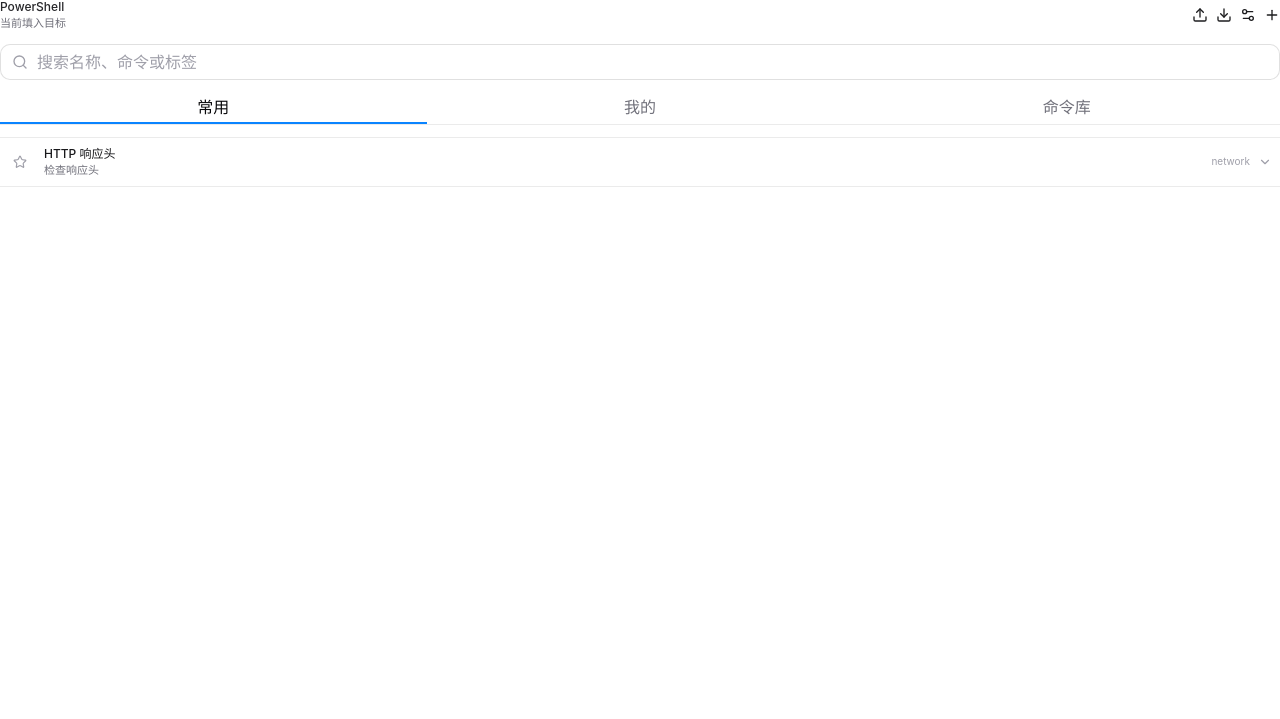
SnippetToolContentV2 › confirms change commands and keeps successful submission independent from usage storage
Click the text "HTTP 响应头" at (80, 153), box [44,146,116,160]
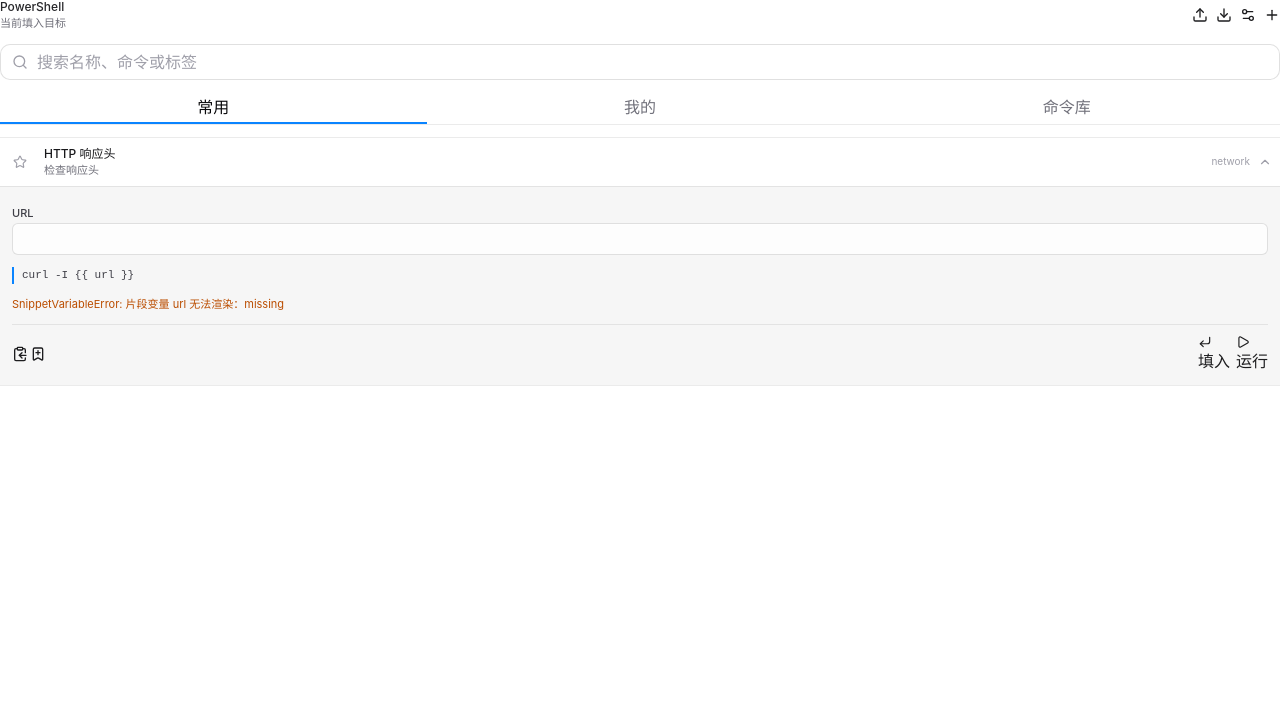
Type "https://example.com" into the field labelled "URL" at (640, 239), box [12,223,1268,255]
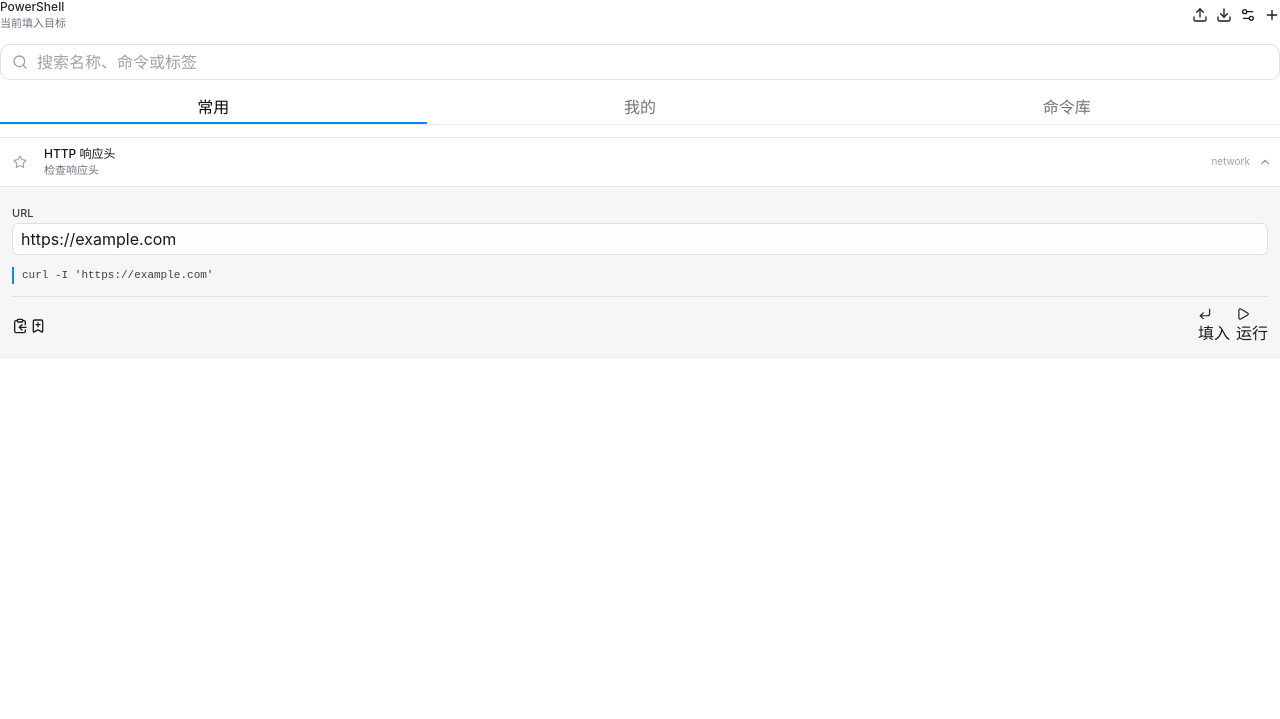
Click the button "运行" at (1252, 326), box [1236,306,1268,344]
(page scrolled)
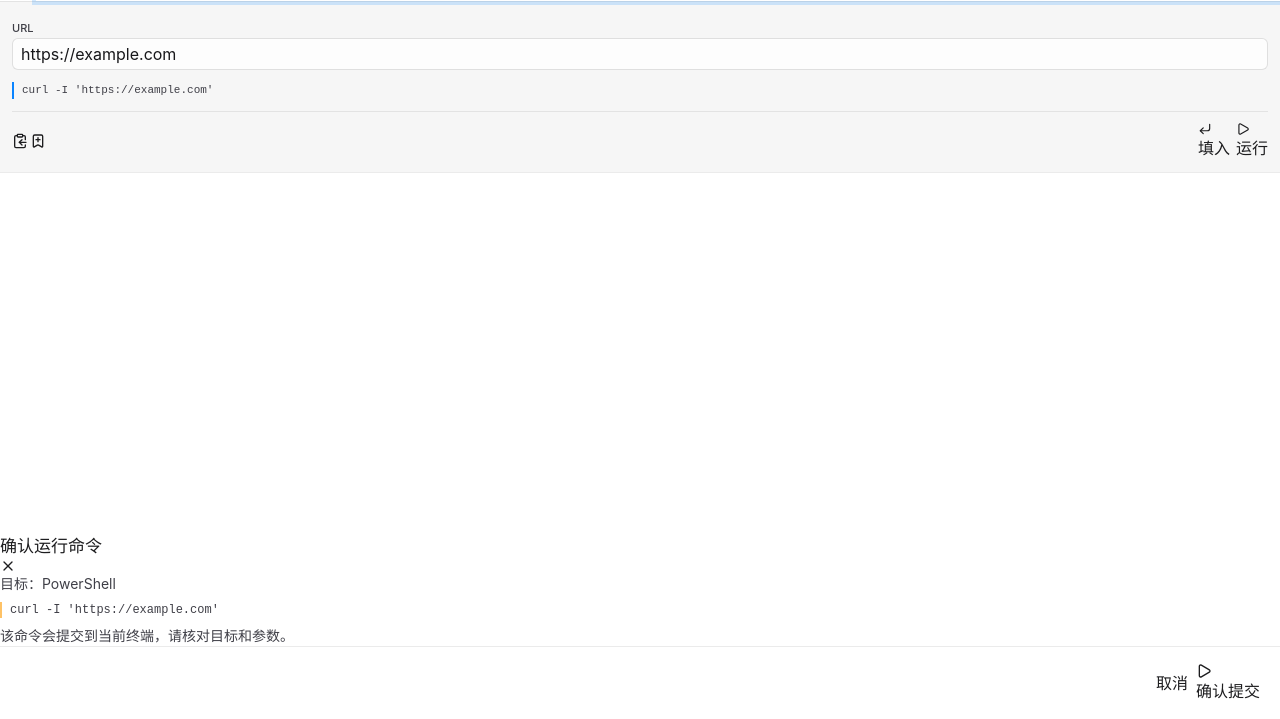
Now the dialog "确认运行命令" is shown, box [0,534,1279,718]
Click the button "确认提交" at (1228, 683), box [1196,663,1260,703]
(page scrolled)
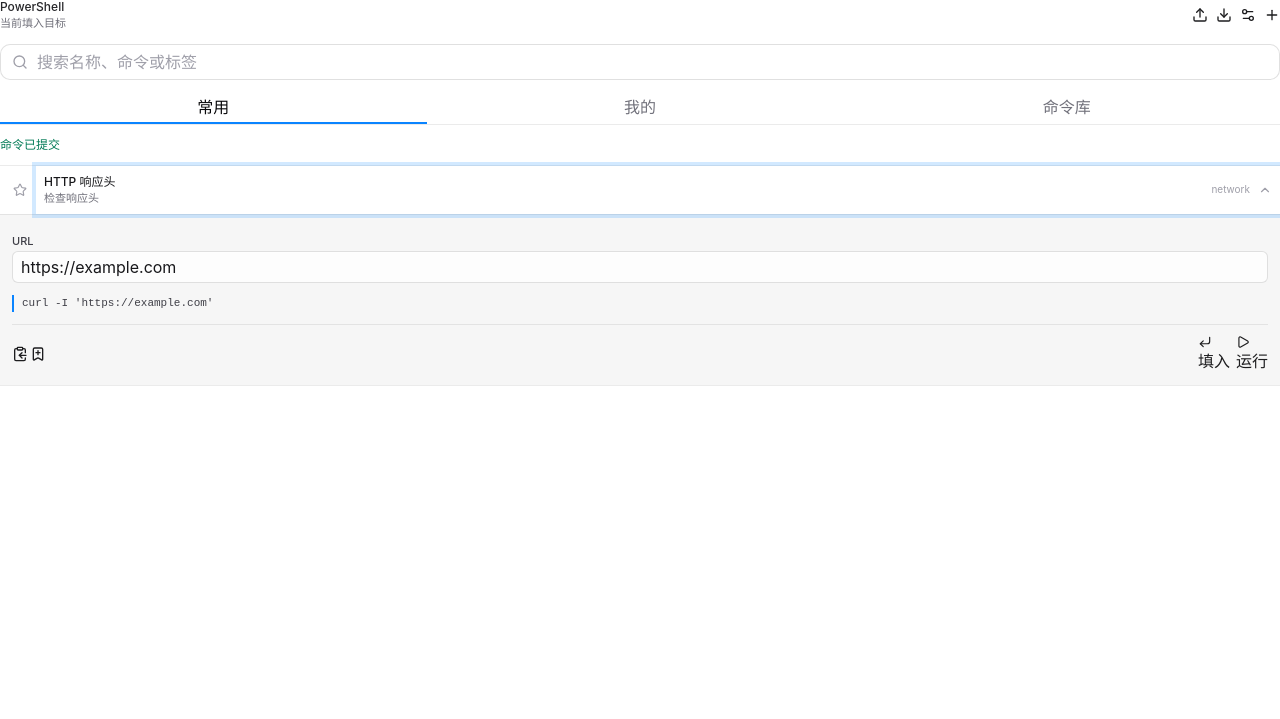
Now the text "命令已提交" is shown, box [0,136,60,152]
